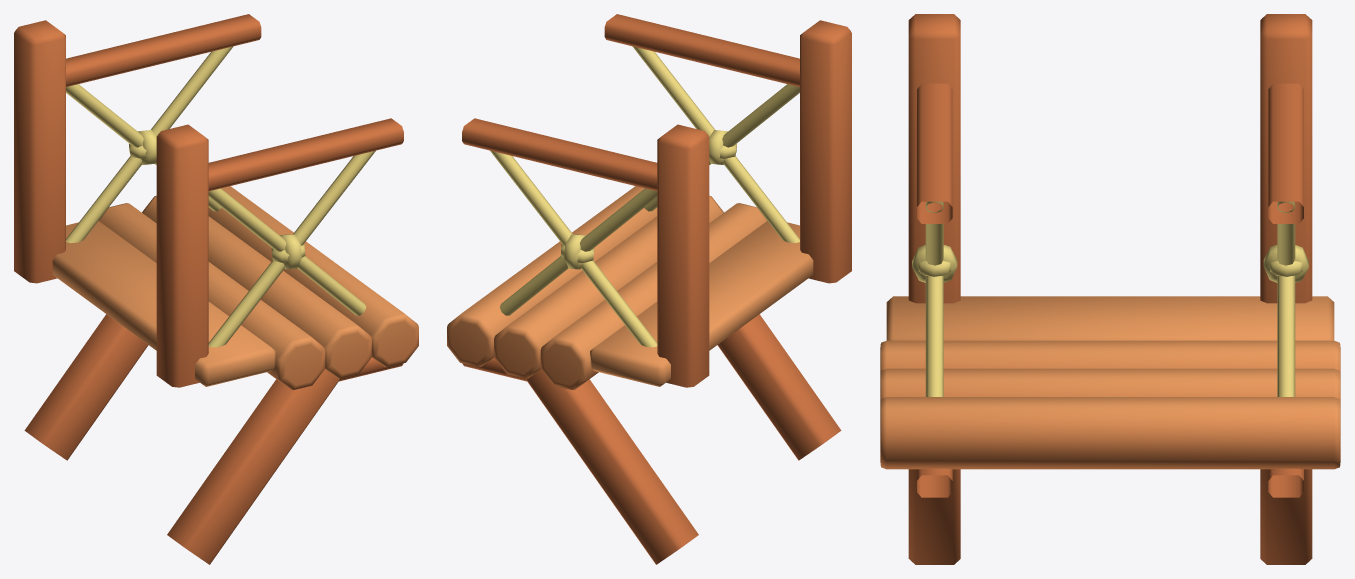
File: platform_kit003.fbx
The picture shows the model from 3 angles, left to right: view 1: azimuth 30°, elevation 25°; view 2: azimuth 150°, elevation 25°; view 3: azimuth 270°, elevation 25°; orthographic projection. The views are drawn at different scales.
Visible parts, largest first — view 1: platform_kit003; view 2: platform_kit003; view 3: platform_kit003.
Boxes of the visible parts, box(x1,y1,x2,y2) form: platform_kit003: box(14, 14, 418, 564); platform_kit003: box(447, 14, 851, 564); platform_kit003: box(880, 14, 1340, 564).
Bounding box in the file's own units: 100 × 176 × 139.
1 material, 1 textured.
